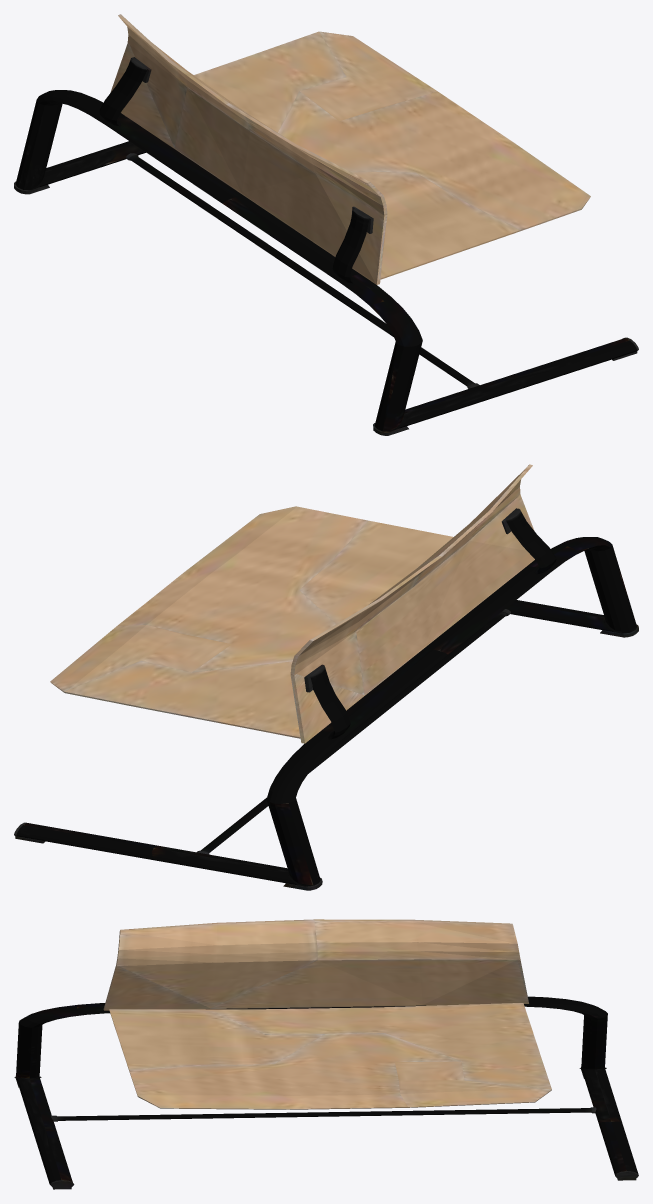
Rendered from chair_11.glb.
3 views of the same model, one above another, from view 1: azimuth 30°, elevation 25°; view 2: azimuth 150°, elevation 25°; view 3: azimuth 270°, elevation 25° (orthographic). The views are drawn at different scales.
Visible parts, largest first — view 1: chair_11; view 2: chair_11; view 3: chair_11.
Part boxes in pixels (x1=…): chair_11: x1=14, y1=14, x2=638, y2=435; chair_11: x1=14, y1=464, x2=638, y2=890; chair_11: x1=14, y1=919, x2=638, y2=1189.
Bounding box in the file's own units: 2.34 × 1.4 × 4.77.
Materials: 1 (1 with a texture image).
